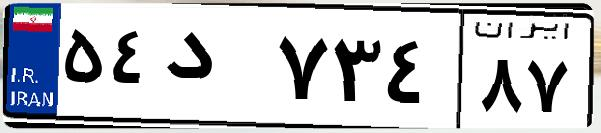3: (330, 28, 385, 110)
4: (385, 28, 445, 110), (110, 28, 158, 98)
5: (57, 26, 110, 100)
7: (270, 28, 330, 110), (525, 38, 570, 115)
8: (475, 38, 525, 113)
د: (158, 20, 270, 120)
